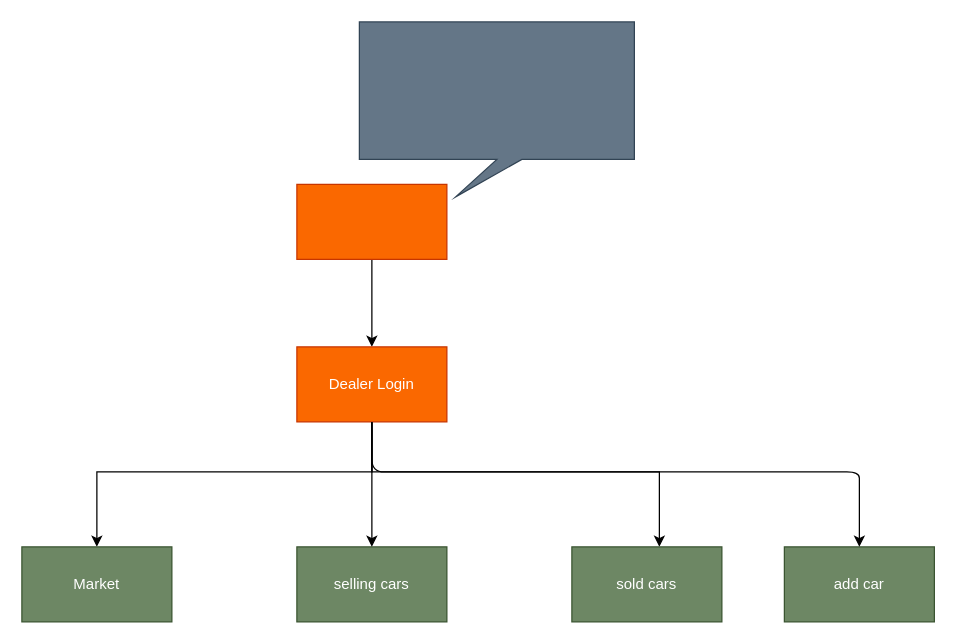
Some shapes in this 956 by 644 pixel diagram are drawn without their labels. The centre of each missing label's shape, as x and y in pixels:
"Dealer Registration" goes at (371,221).
"Name Registration location Brand new car contact used car contact" goes at (496,109).
